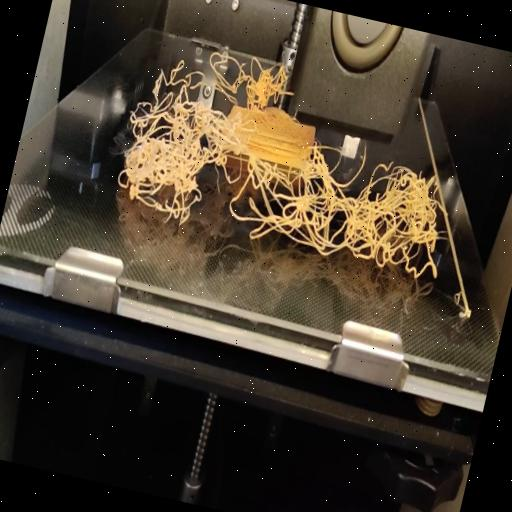spaghetti: (104, 88, 462, 291), (152, 30, 298, 124)
